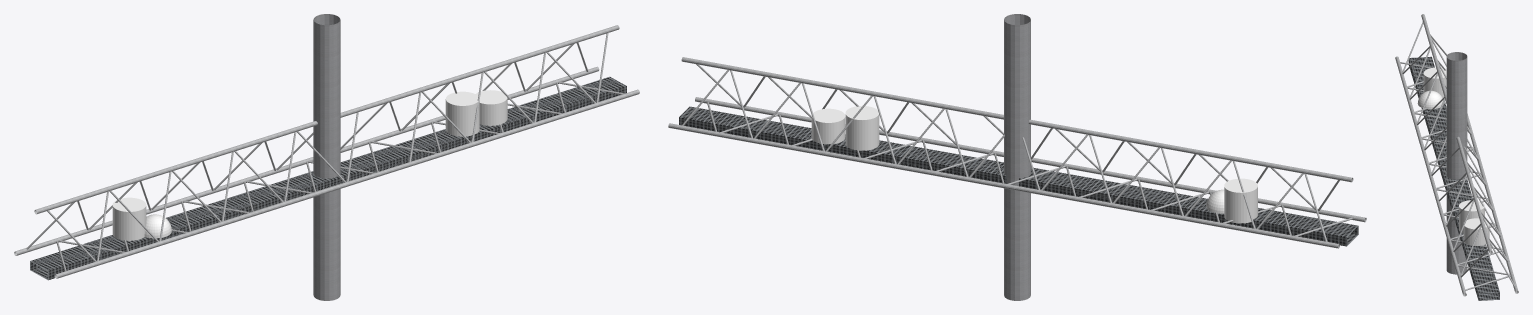
Rendered from Steggr.dae.
3 views of the same model, side by side, from view 1: azimuth 30°, elevation 25°; view 2: azimuth 150°, elevation 25°; view 3: azimuth 270°, elevation 25° (orthographic). The views are drawn at different scales.
Visible parts, largest first — view 1: Komponente (×9); view 2: Komponente (×8); view 3: Komponente (×20).
Boxes of the visible parts, box(x1,y1,x2,y2) form: Komponente (×9): box(14, 14, 639, 300); Komponente (×8): box(668, 14, 1366, 300); Komponente (×20): box(1395, 14, 1518, 300).
Bounding box in the file's own units: 4816 × 1049 × 2003.
